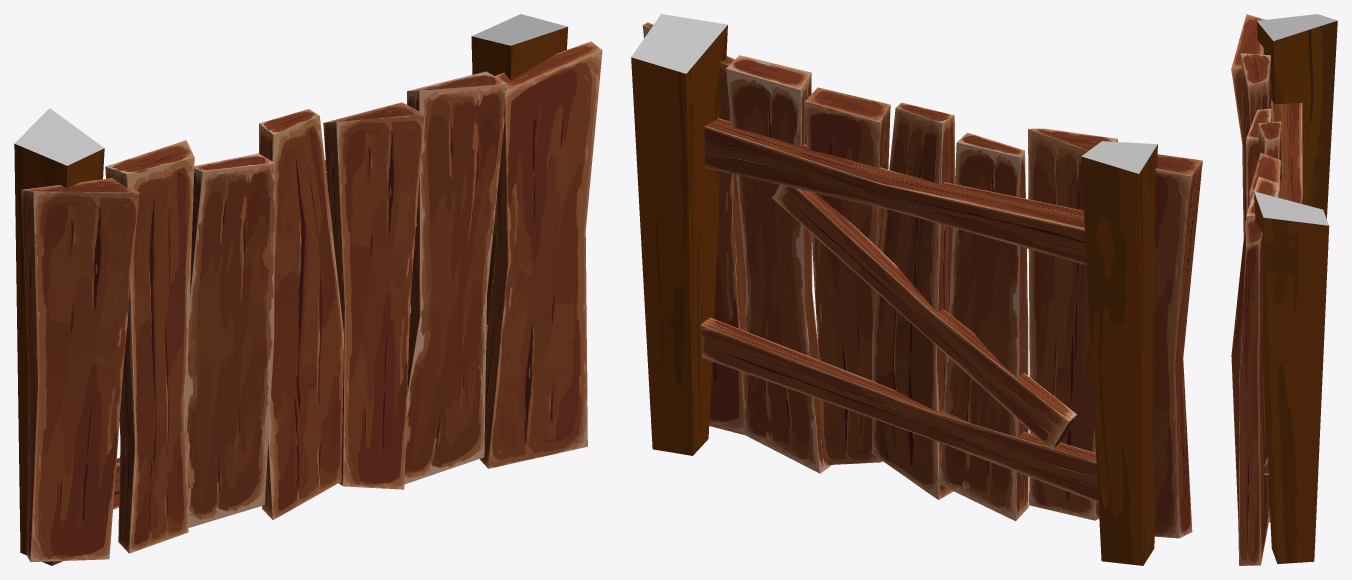
File: SM_PROP_fence_v01_02.fbx
3 views of the same model, side by side, from view 1: azimuth 30°, elevation 25°; view 2: azimuth 150°, elevation 25°; view 3: azimuth 270°, elevation 25° (orthographic). The views are drawn at different scales.
Parts seen in each view (by area): view 1: SM_PROP_fence_v01_02; view 2: SM_PROP_fence_v01_02; view 3: SM_PROP_fence_v01_02.
Part boxes in pixels (<box>): SM_PROP_fence_v01_02: <box>14,14,602,565</box>; SM_PROP_fence_v01_02: <box>631,14,1202,565</box>; SM_PROP_fence_v01_02: <box>1231,14,1337,565</box>.
Bounding box in the file's own units: 282 × 201 × 54.28.
